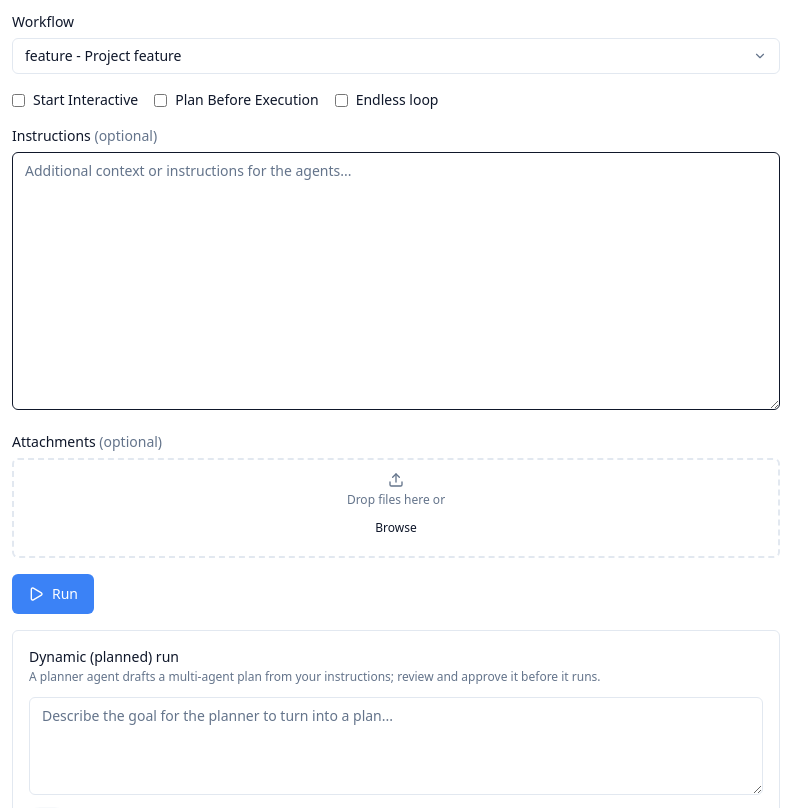
RunWorkflowForm — endless loop mode › unchecking Endless loop restores the Instructions textarea
The image size is (797, 808).
Click the checkbox labelled "Endless loop": (341, 100) left=335, top=94, right=348, bottom=106
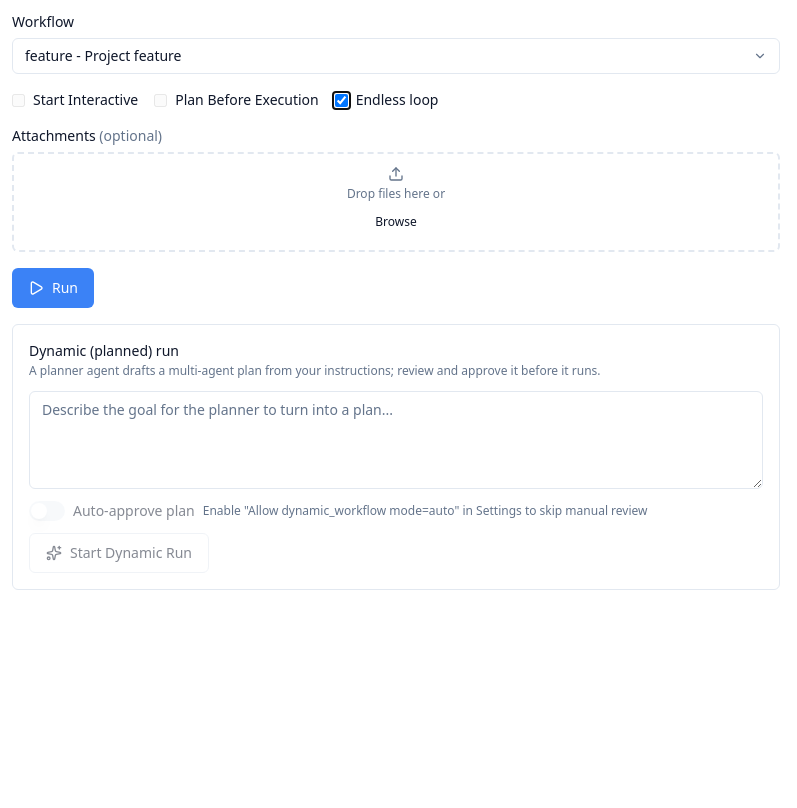
Expected: the field with placeholder "additional context" is not shown
Click the checkbox labelled "Endless loop": (341, 100) left=335, top=94, right=348, bottom=106
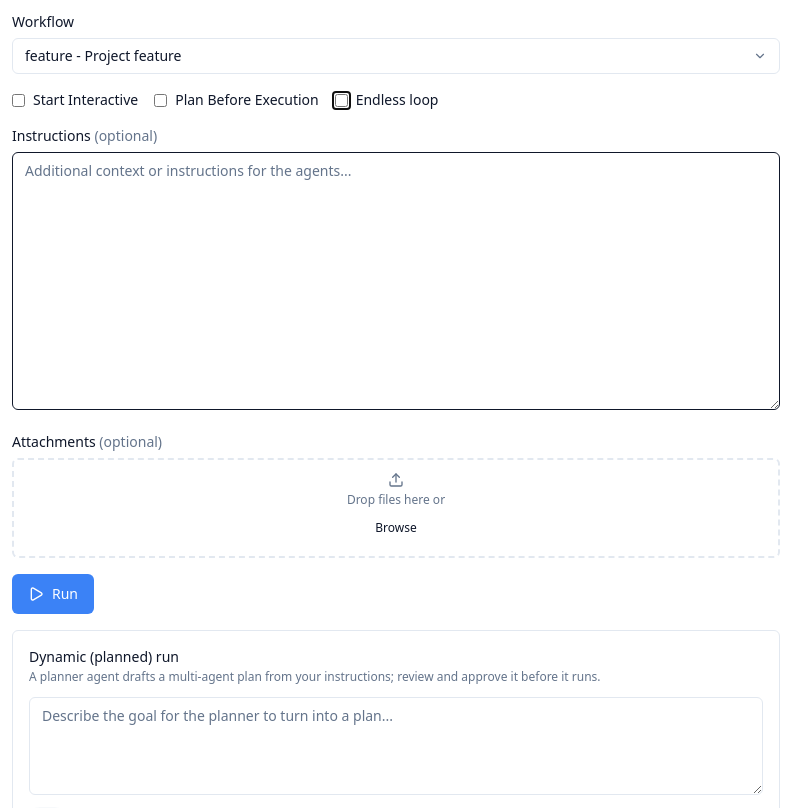
Result: the text box with placeholder "Additional context or instructions for the agents..." is shown at left=12, top=152, right=780, bottom=410
